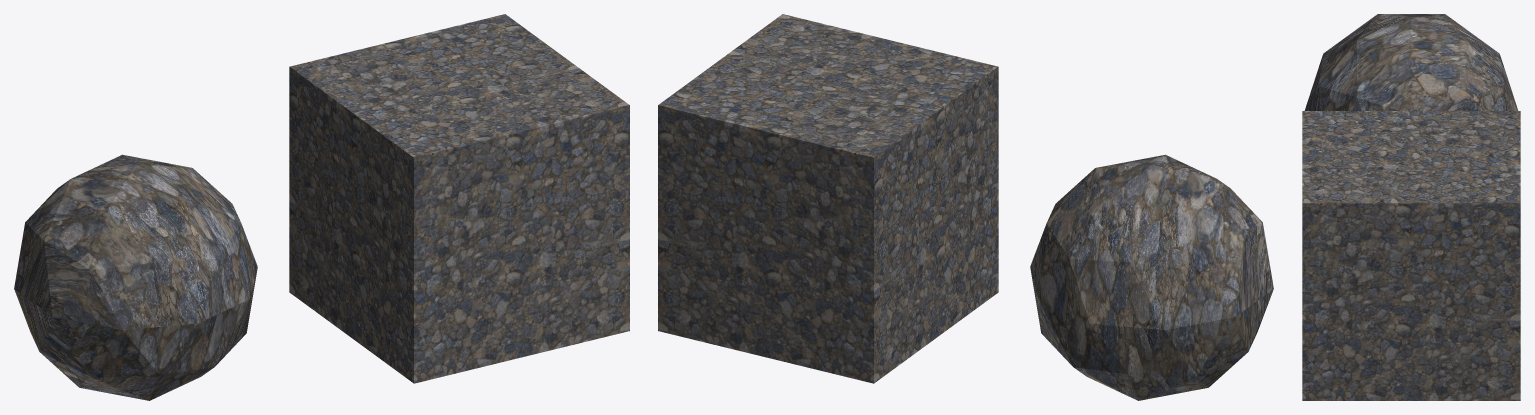
The model's file is Pebble_Sphere.obj.
The picture shows the model from 3 angles, left to right: view 1: azimuth 30°, elevation 25°; view 2: azimuth 150°, elevation 25°; view 3: azimuth 270°, elevation 25°; orthographic projection. The views are drawn at different scales.
Parts seen in each view (by area): view 1: Cube, Icosphere; view 2: Cube, Icosphere; view 3: Cube, Icosphere.
Boxes of the visible parts, box(x1,y1,x2,y2) form: Cube: box(289, 14, 629, 383); Icosphere: box(14, 154, 257, 400); Cube: box(658, 14, 998, 383); Icosphere: box(1030, 154, 1273, 400); Cube: box(1302, 111, 1520, 400); Icosphere: box(1304, 14, 1518, 110).
Bounding box in the file's own units: 4.95 × 2 × 2.
